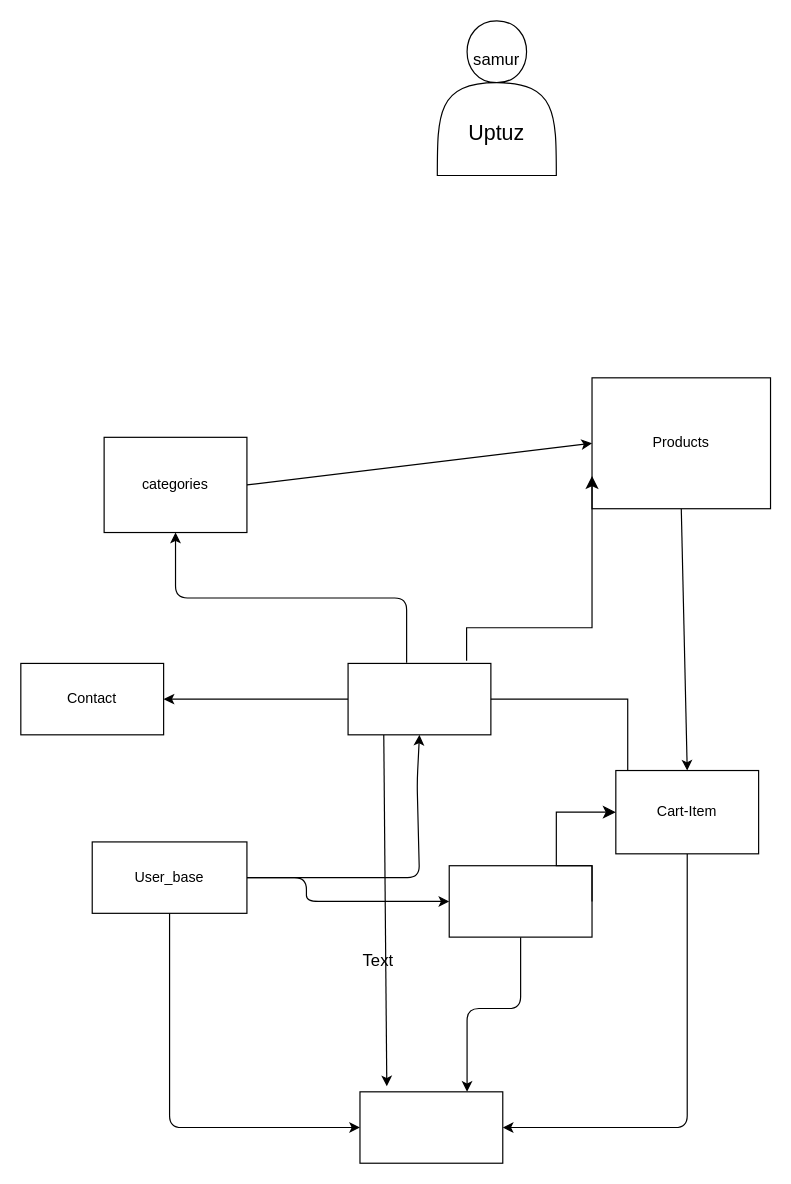
Some shapes in this 791 by 1184 pixel diagram are drawn without their labels. The shapes that lost their labels are listed below. From the top down, each one's box as (x1, y1, x2, y2) in pixels, then its label:
(347, 662, 491, 735): core
(448, 865, 592, 937): Cart
(359, 1091, 503, 1163): checount
